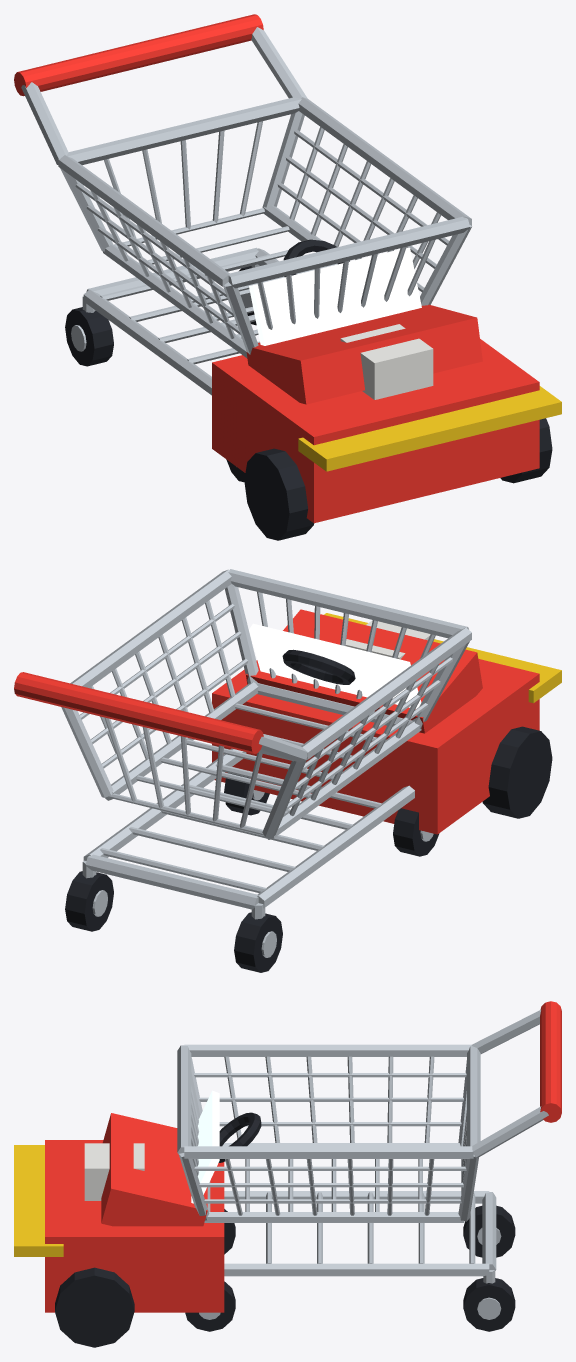
File: cart-kiddie.glb
3 renders of one model, top to bottom at view 1: azimuth 30°, elevation 25°; view 2: azimuth 150°, elevation 25°; view 3: azimuth 270°, elevation 25°, orthographic. The views are drawn at different scales.
Visible parts, largest first — view 1: cart-kiddie; view 2: cart-kiddie; view 3: cart-kiddie.
Boxes of the visible parts, <box> form: cart-kiddie: <box>14,14,561,540</box>; cart-kiddie: <box>14,569,561,972</box>; cart-kiddie: <box>14,1001,561,1347</box>.
Bounding box in the file's own units: 1.34 × 1.33 × 2.75.
